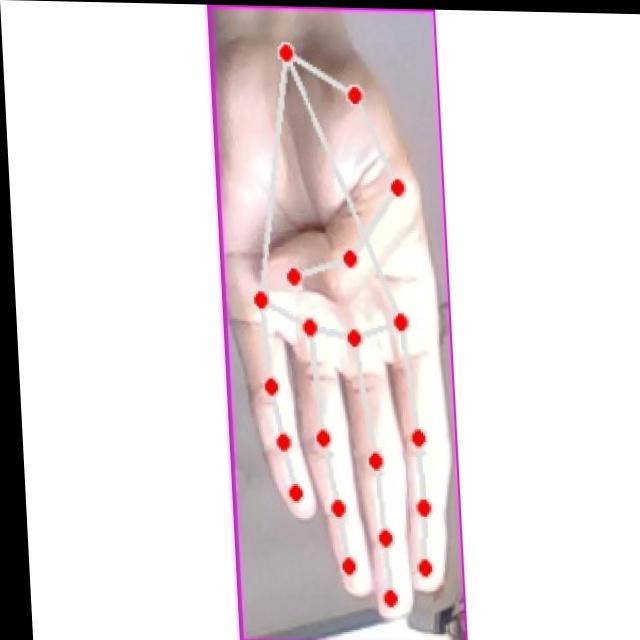B: (216, 41, 448, 630)
